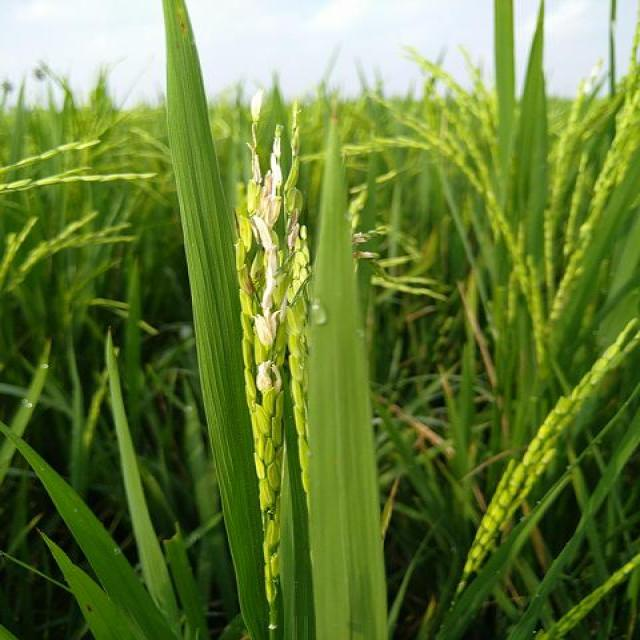Panicle Blight: (252, 217, 277, 318), (256, 154, 283, 228), (253, 311, 281, 353), (285, 208, 304, 254), (256, 361, 280, 393), (237, 263, 256, 298), (249, 261, 267, 290)
